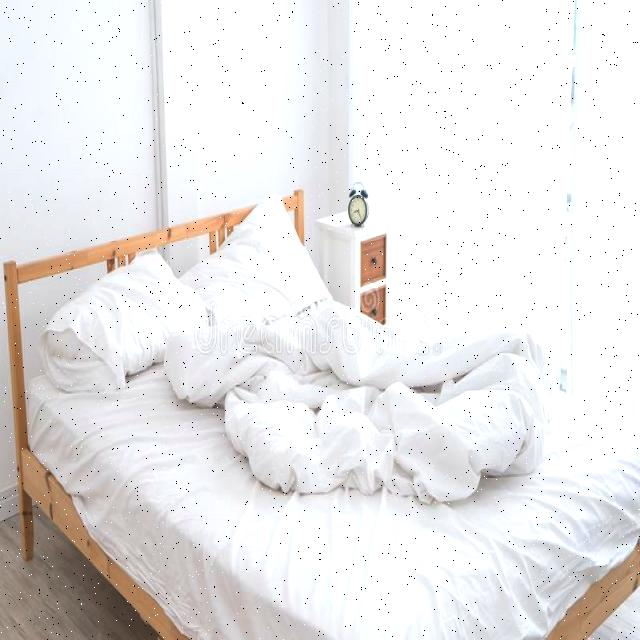bed: (25, 230, 635, 640)
